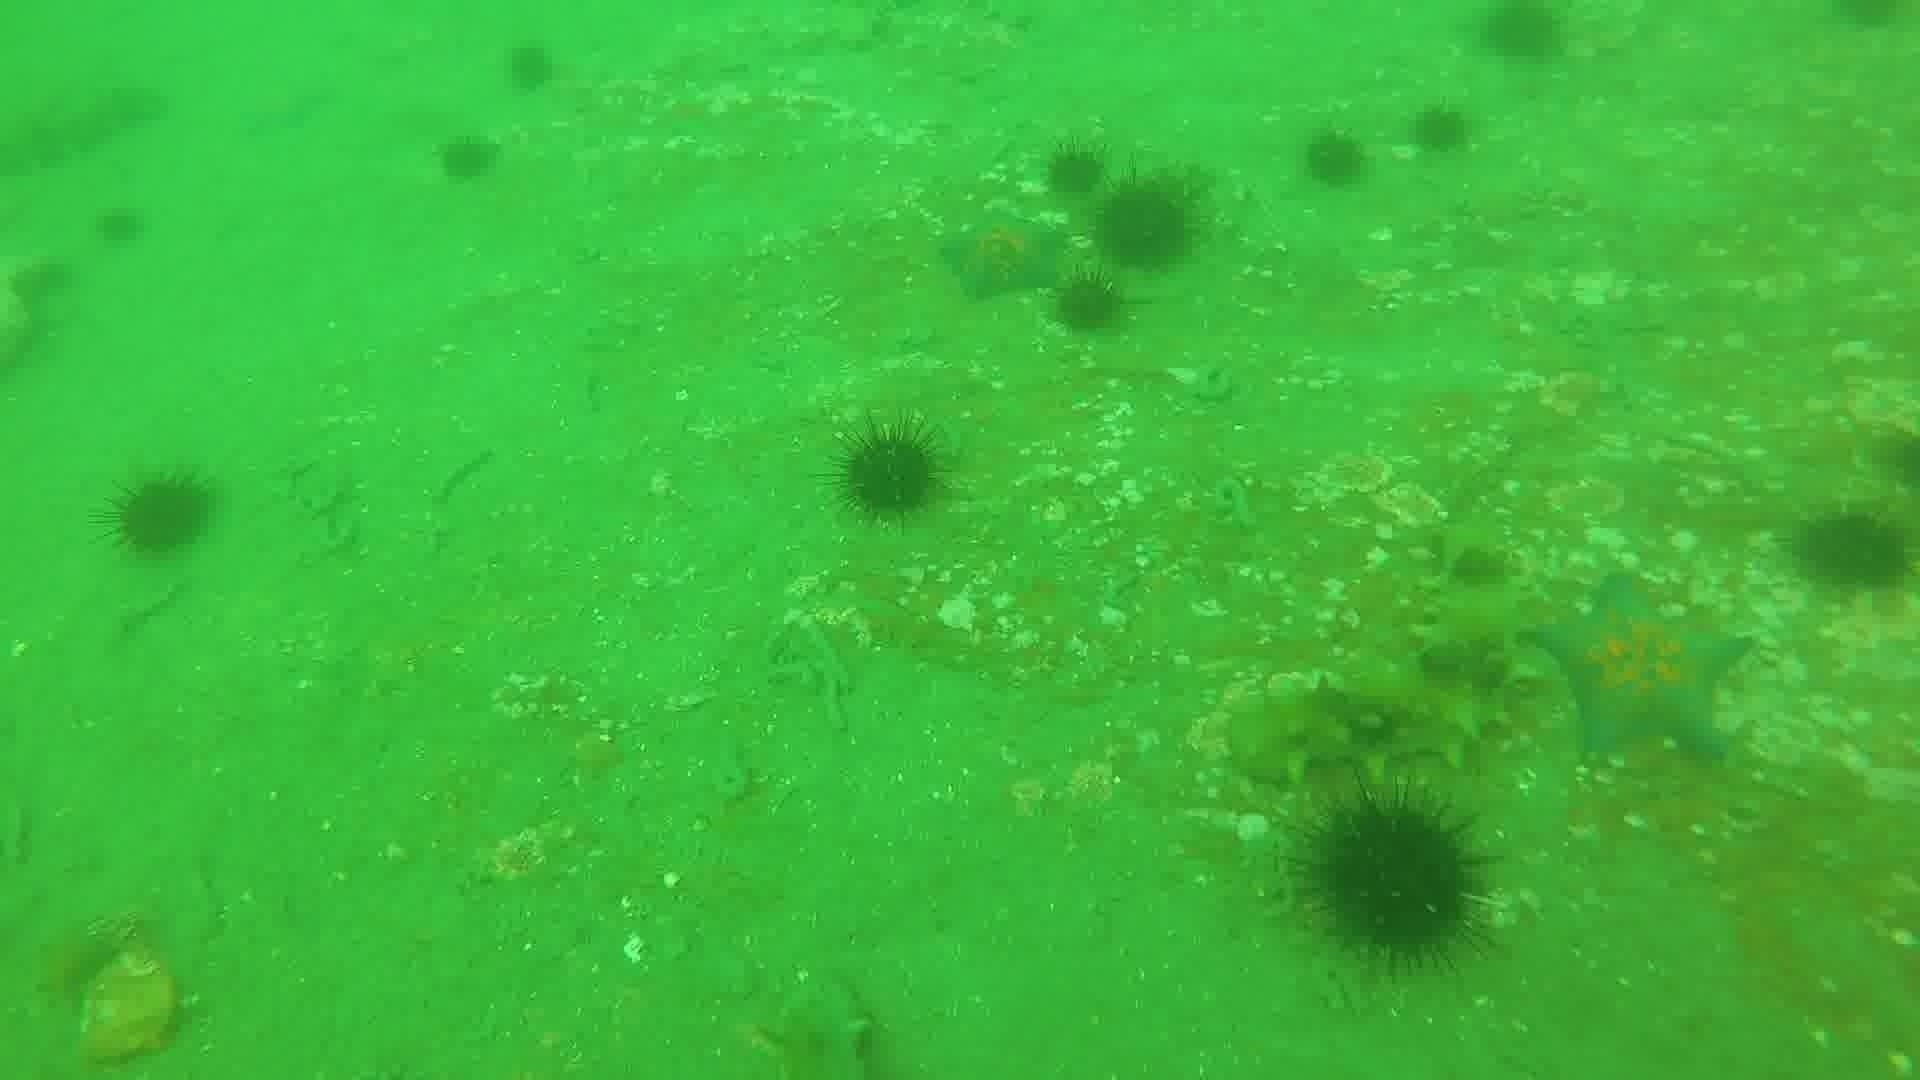echinus: (1290, 781, 1494, 976), (828, 417, 949, 527), (1788, 501, 1915, 601), (1091, 171, 1204, 277), (100, 465, 218, 563), (1474, 3, 1571, 67), (1046, 270, 1131, 342), (1298, 124, 1371, 193), (1038, 138, 1112, 203), (1404, 98, 1477, 160), (433, 131, 502, 187), (498, 37, 563, 96), (90, 200, 152, 251)
holothurian: (1232, 526, 1538, 790), (1, 71, 167, 181), (752, 980, 882, 1076)
starfish: (1528, 572, 1755, 767), (936, 208, 1069, 305), (26, 906, 146, 1007), (233, 71, 338, 142)
